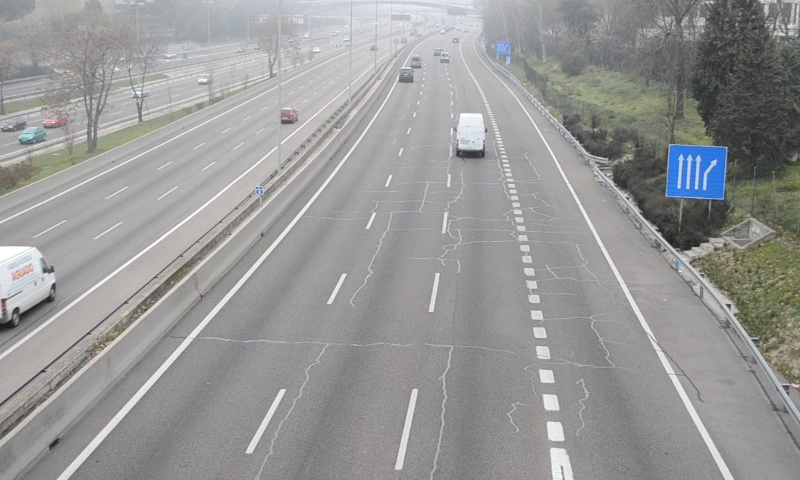car: (398, 67, 413, 82)
van: (456, 112, 486, 157)
